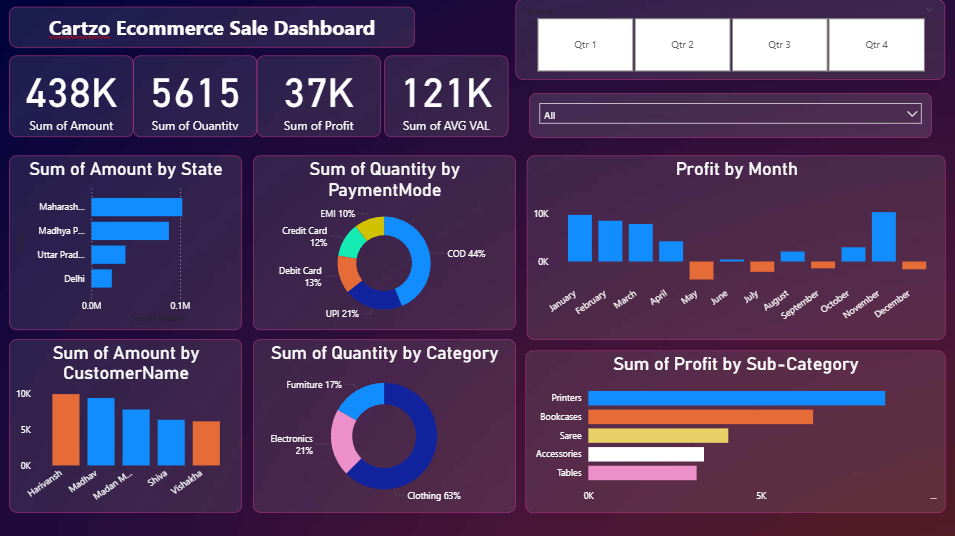

The page's visual inventory and layout, read from the dashboard file:
{"tool":"powerbi","page":{"name":"Page 1","canvas":[1280,720],"ordinal":0},"visuals":[{"type":"textbox","box":[15.6,11.1,541.1,54.4],"z":0},{"type":"columnChart","title":"Profit by Month","fields":{"Y":["Sum(Details.Profit)"],"Category":["Orders.Order Date.Variation.Date Hierarchy.Month"]},"box":[704.3,210,558.6,245.7],"z":1000},{"type":"barChart","fields":{"Category":["Details.Sub-Category"],"Y":["Sum(Details.Profit)"]},"box":[703.9,470.7,559.9,216.8],"z":2000},{"type":"donutChart","fields":{"Y":["Sum(Details.Quantity)"],"Category":["Details.PaymentMode"]},"box":[340,210,350,232.9],"z":3000},{"type":"donutChart","fields":{"Category":["Details.Category"],"Y":["Sum(Details.Quantity)"]},"box":[340,455.7,350,231.4],"z":4000},{"type":"card","fields":{"Values":["Sum(Details.Amount)"]},"box":[14.3,77.1,165.7,108.6],"z":5000},{"type":"card","fields":{"Values":["Sum(Details.AVG VAL)"]},"box":[514.3,77.1,165.7,108.6],"z":6000},{"type":"card","fields":{"Values":["Sum(Details.Profit)"]},"box":[345.7,77.1,165.7,108.6],"z":7000},{"type":"card","fields":{"Values":["Sum(Details.Quantity)"]},"box":[180,77.1,165.7,108.6],"z":8000},{"type":"barChart","fields":{"Category":["Orders.State"],"Y":["Sum(Details.Amount)"]},"box":[14.3,210,310,232.9],"z":9000},{"type":"columnChart","fields":{"Category":["Orders.CustomerName"],"Y":["Sum(Details.Amount)"]},"box":[15.7,455.7,310,231.4],"z":10000},{"type":"slicer","fields":{"Values":["Orders.Order Date.Variation.Date Hierarchy.Quarter"]},"box":[690,1,573,107],"z":11000},{"type":"slicer","fields":{"Values":["Orders.State"]},"box":[709,126,537,60],"z":12000}]}

Visuals, with their boxes in screenshot pixels (x1, y1, x2, y2), scaled from the page's 1280x720 canvas onto the 955x536 screenshot:
textbox: {"left": 12, "top": 8, "right": 415, "bottom": 49}
"Profit by Month" columnChart: {"left": 525, "top": 156, "right": 942, "bottom": 339}
barChart - Details.Sub-Category x Sum(Details.Profit): {"left": 525, "top": 350, "right": 943, "bottom": 512}
donutChart - Sum(Details.Quantity) x Details.PaymentMode: {"left": 254, "top": 156, "right": 515, "bottom": 330}
donutChart - Details.Category x Sum(Details.Quantity): {"left": 254, "top": 339, "right": 515, "bottom": 512}
card - Sum(Details.Amount): {"left": 11, "top": 57, "right": 134, "bottom": 138}
card - Sum(Details.AVG VAL): {"left": 384, "top": 57, "right": 507, "bottom": 138}
card - Sum(Details.Profit): {"left": 258, "top": 57, "right": 382, "bottom": 138}
card - Sum(Details.Quantity): {"left": 134, "top": 57, "right": 258, "bottom": 138}
barChart - Orders.State x Sum(Details.Amount): {"left": 11, "top": 156, "right": 242, "bottom": 330}
columnChart - Orders.CustomerName x Sum(Details.Amount): {"left": 12, "top": 339, "right": 243, "bottom": 512}
slicer - Orders.Order Date.Variation.Date Hierarchy.Quarter: {"left": 515, "top": 1, "right": 942, "bottom": 80}
slicer - Orders.State: {"left": 529, "top": 94, "right": 930, "bottom": 138}
